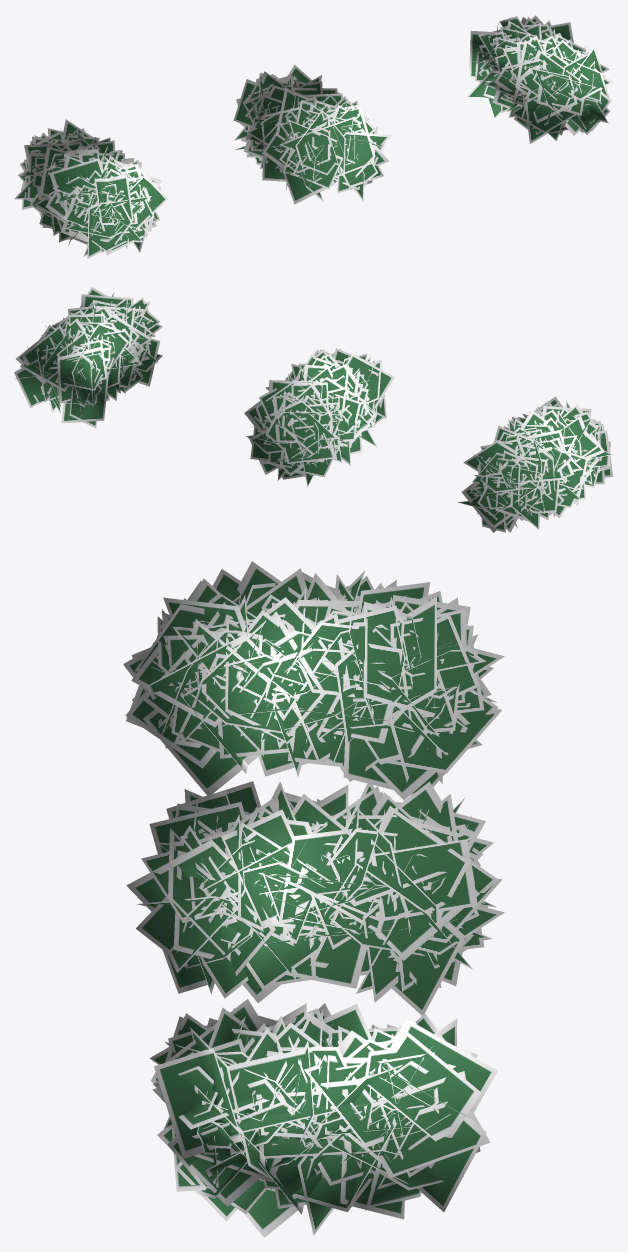
Rendered from bushes_test_03.fbx.
3 renders of one model, top to bottom at view 1: azimuth 30°, elevation 25°; view 2: azimuth 150°, elevation 25°; view 3: azimuth 270°, elevation 25°, orthographic. The views are drawn at different scales.
Parts seen in each view (by area): view 1: leaf.003, leaf.001, leaf.002; view 2: leaf.003, leaf.001, leaf.002; view 3: leaf.003, leaf.001, leaf.002.
Part boxes in pixels (bbox=[...]): leaf.003: bbox=[233, 64, 391, 204]; leaf.001: bbox=[14, 119, 167, 258]; leaf.002: bbox=[466, 15, 613, 143]; leaf.003: bbox=[244, 348, 394, 486]; leaf.001: bbox=[457, 396, 613, 532]; leaf.002: bbox=[14, 287, 162, 428]; leaf.003: bbox=[126, 779, 504, 1015]; leaf.001: bbox=[123, 561, 504, 800]; leaf.002: bbox=[149, 999, 497, 1237].
Bounding box in the file's own units: 1612 × 275 × 489.
